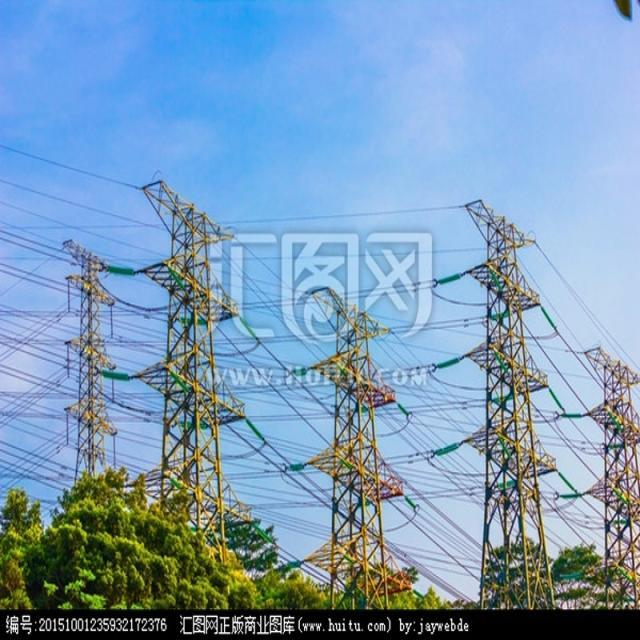non-critical vegetation: (446, 182, 569, 604), (134, 169, 260, 576), (286, 278, 402, 610), (50, 230, 125, 479), (570, 332, 638, 604)
